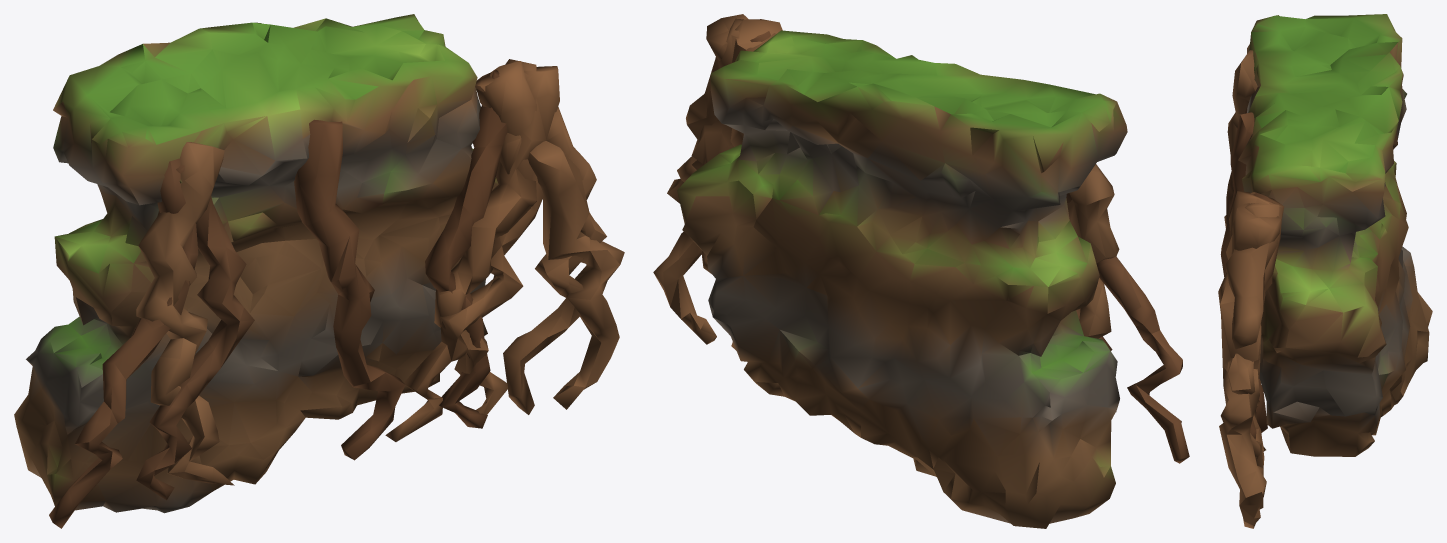
The model's file is glade_root_wall_b_lod1.glb.
3 renders of one model, left to right at view 1: azimuth 30°, elevation 25°; view 2: azimuth 150°, elevation 25°; view 3: azimuth 270°, elevation 25°, orthographic. The views are drawn at different scales.
Parts seen in each view (by area): view 1: glade_root_wall_b.001; view 2: glade_root_wall_b.001; view 3: glade_root_wall_b.001.
Boxes of the visible parts, <box> form: glade_root_wall_b.001: <box>14,14,624,528</box>; glade_root_wall_b.001: <box>653,14,1189,528</box>; glade_root_wall_b.001: <box>1218,14,1432,528</box>.
Bounding box in the file's own units: 17.43 × 12.83 × 6.52.
